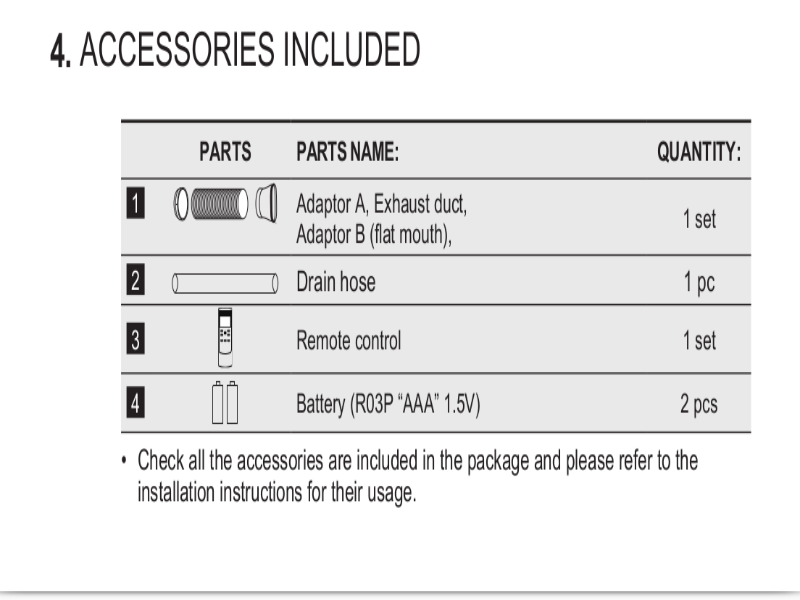borderless: (114, 110, 760, 440)
cell: (289, 186, 477, 248), (292, 386, 487, 424), (170, 183, 281, 228), (290, 133, 406, 167), (165, 267, 285, 298), (651, 133, 746, 170), (292, 326, 407, 354), (293, 265, 381, 297), (192, 133, 261, 167), (208, 378, 243, 428), (674, 387, 727, 420), (213, 306, 239, 368), (681, 264, 721, 299), (681, 202, 720, 233), (681, 326, 721, 355)
